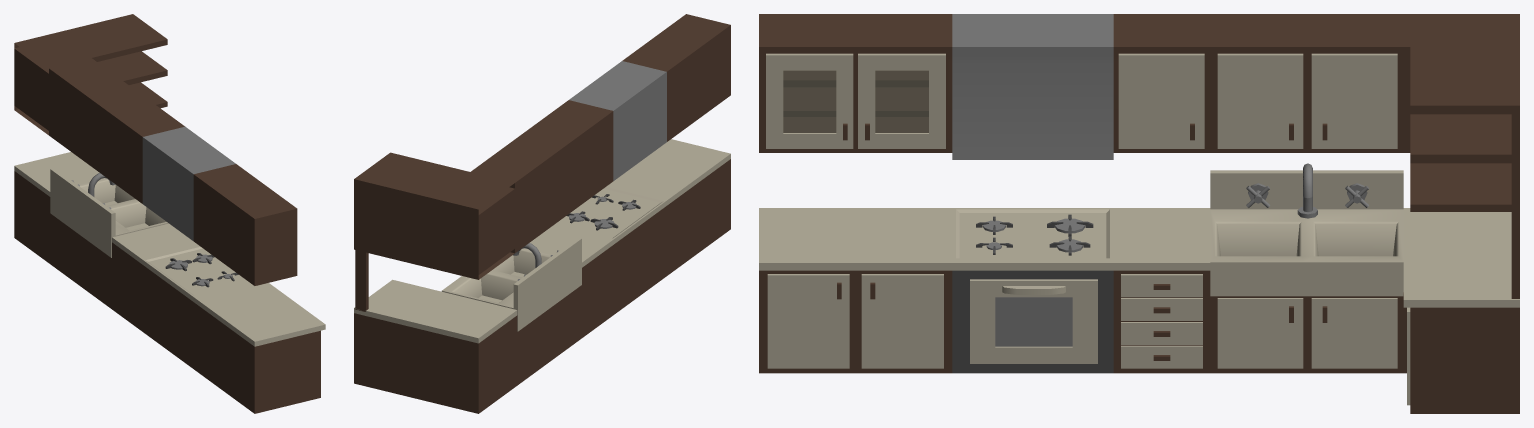
Rendered from s_Kitchen.fbx.
The picture shows the model from 3 angles, left to right: view 1: azimuth 30°, elevation 25°; view 2: azimuth 150°, elevation 25°; view 3: azimuth 270°, elevation 25°; orthographic projection. The views are drawn at different scales.
Visible parts, largest first — view 1: s_Kitchen; view 2: s_Kitchen; view 3: s_Kitchen.
Boxes of the visible parts, x1,y1,x2,y2 form: s_Kitchen: (14, 14, 325, 413); s_Kitchen: (354, 14, 730, 413); s_Kitchen: (759, 14, 1519, 413).
Bounding box in the file's own units: 171 × 266 × 595.
